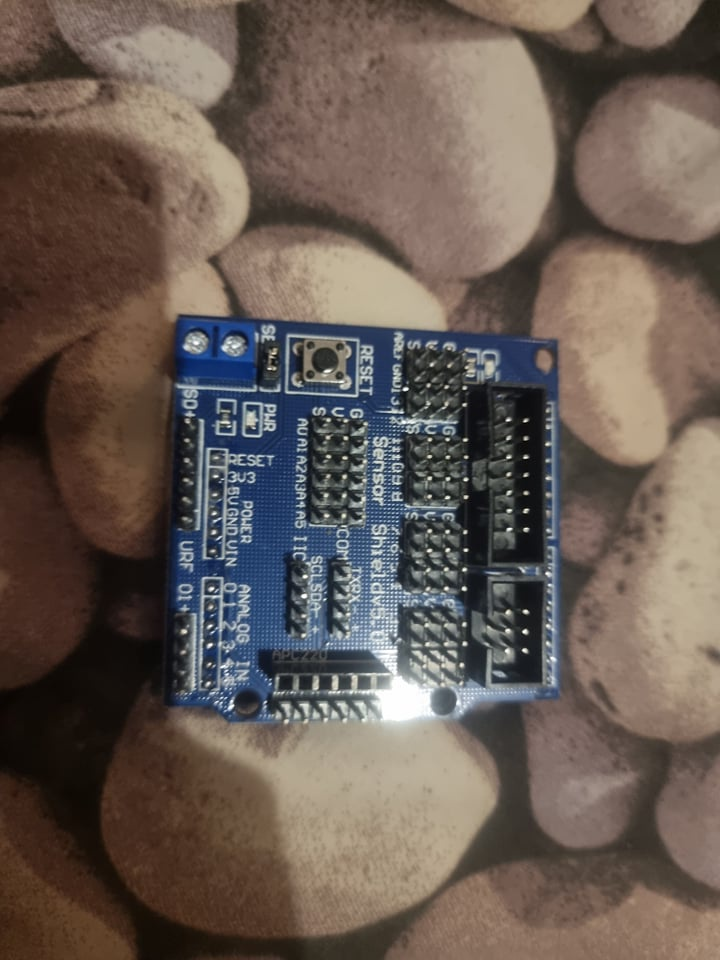5V EXPANSION: (168, 313, 562, 725)
